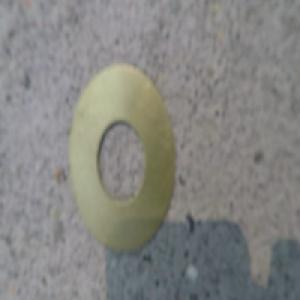Washer: (67, 62, 178, 262)
